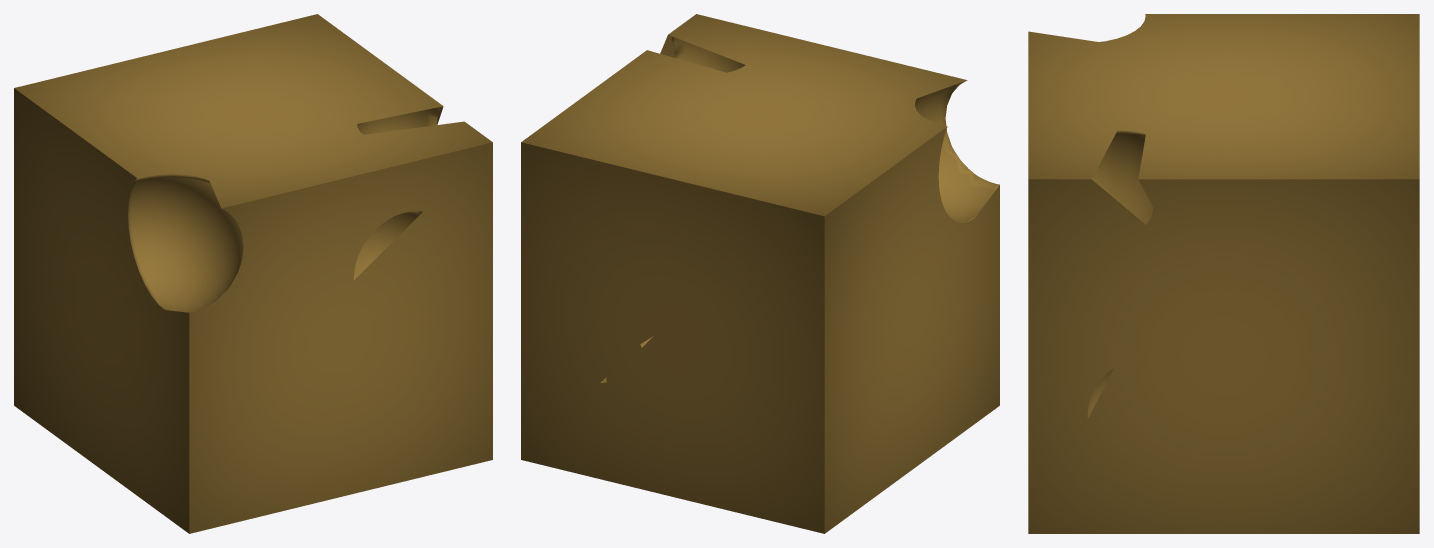
File: cheese.obj
3 views of the same model, side by side, from view 1: azimuth 30°, elevation 25°; view 2: azimuth 150°, elevation 25°; view 3: azimuth 270°, elevation 25° (orthographic). The views are drawn at different scales.
Parts seen in each view (by area): view 1: Cube; view 2: Cube; view 3: Cube.
Part boxes in pixels (x1,y1,x2,y2): Cube: (14,14,492,533); Cube: (521,14,999,533); Cube: (1028,14,1419,533).
Bounding box in the file's own units: 2 × 2 × 2.
1 material, 1 textured.
